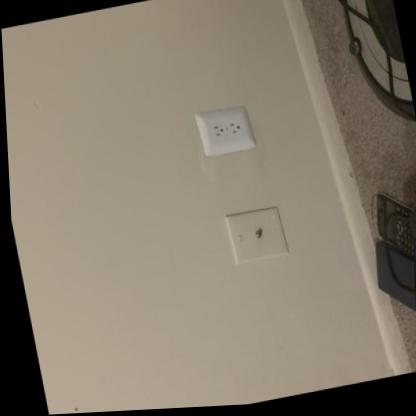OUTLET: (194, 102, 255, 157)
